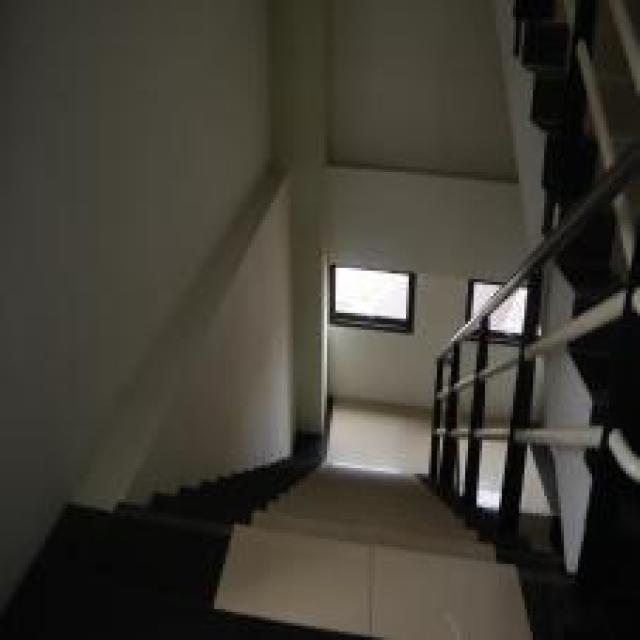downstair: (187, 469, 478, 638)
